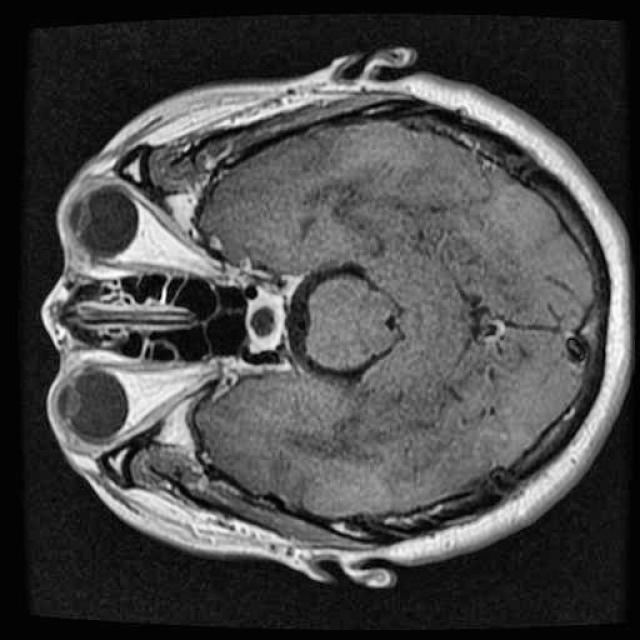Tumor: (235, 280, 295, 359)
